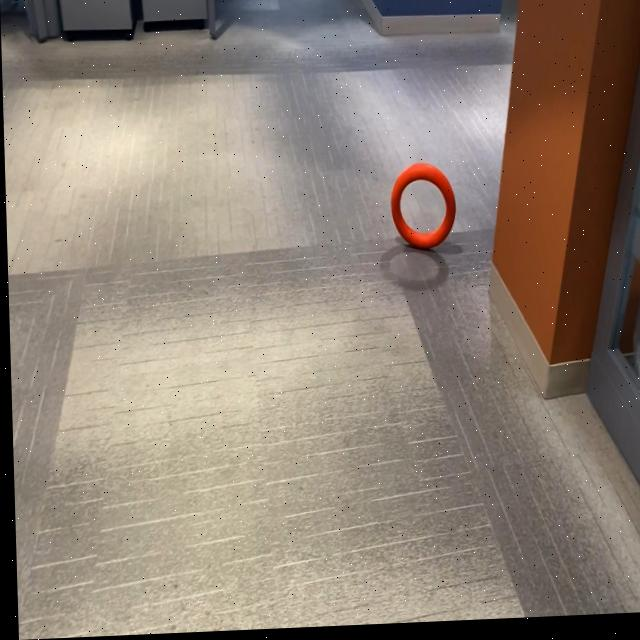note: (388, 162, 456, 258)
